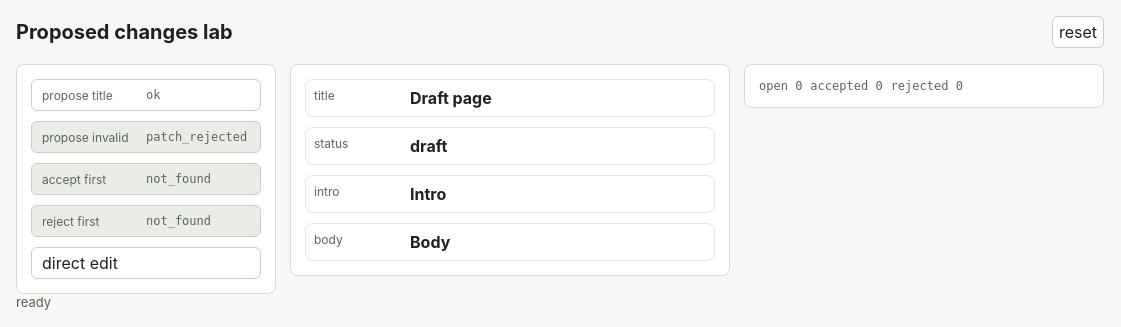
it: proposed changes lab dogfood › surfaces stale proposals after a direct edit
Click the button "propose title ok". click: (146, 95)
box: [31,79,261,111]
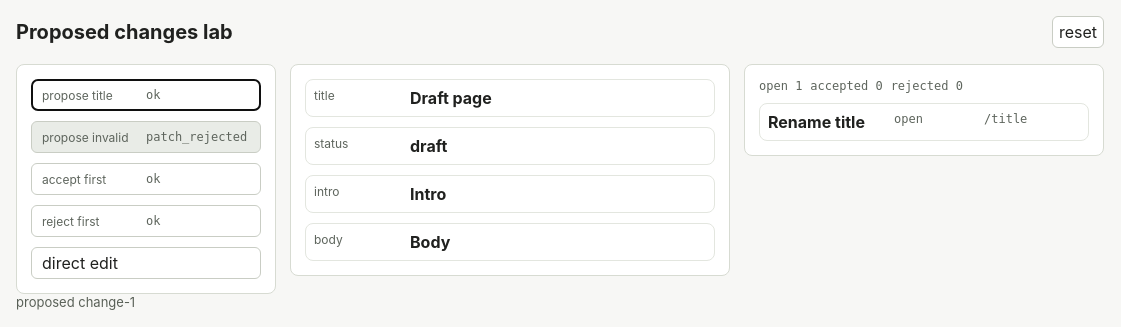
Click the button "direct edit". click: (146, 263)
box: [31,247,261,279]
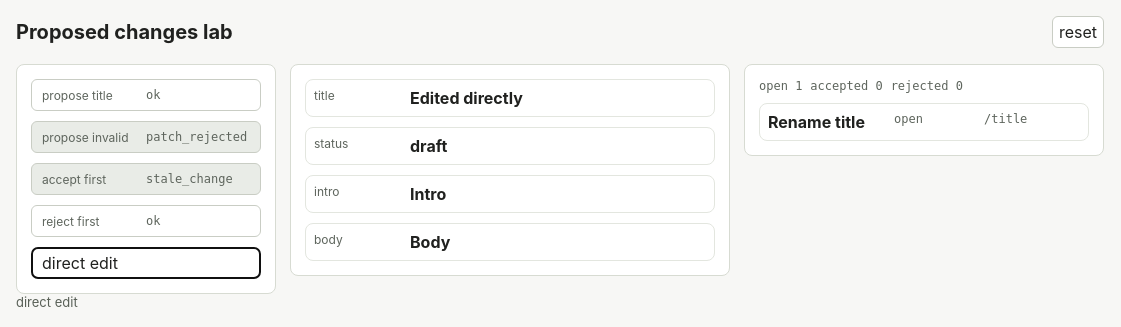
Now the text "Edited directly" is shown, box [410,88,523,108]
Now the button "accept first stale_change" is disabled, box [31,163,261,195]
Now the text "stale_change" is shown, box [146,172,233,186]
